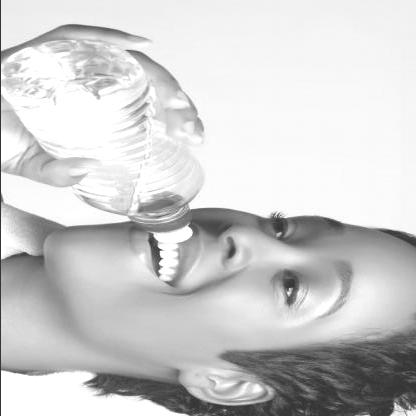bottle: (0, 35, 201, 244)
